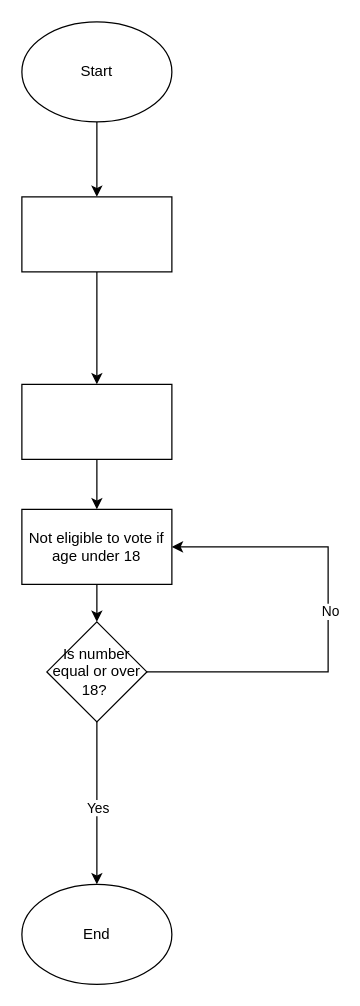
The diagram is 360 pixels wide and 1006 high, and some of its shapes have lost their labels. Each missing label, with the centre of its shape:
"Input number" goes at point (96, 234).
"Number equal or over 18 eligible to vote" goes at point (96, 421).
